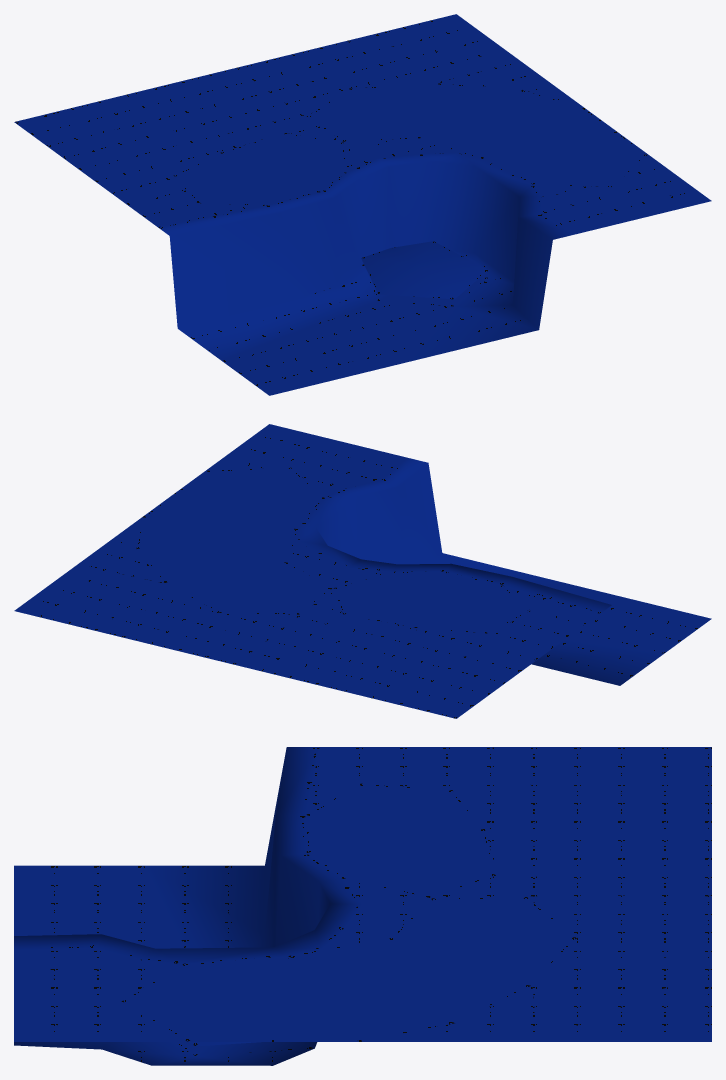
Rendered from GRD_S_C5_1.fbx.
3 renders of one model, top to bottom at view 1: azimuth 30°, elevation 25°; view 2: azimuth 150°, elevation 25°; view 3: azimuth 270°, elevation 25°, orthographic. The views are drawn at different scales.
Parts seen in each view (by area): view 1: material_00022000, material_00032000, material_C0042000, material_C0012000, material_C0052000; view 2: material_00022000, material_C0042000, material_00032000; view 3: material_00022000, material_C0042000, material_00032000, material_C0052000.
Boxes of the visible parts, x1,y1,x2,y2 form: material_00022000: (14,14,711,395); material_00032000: (158,153,573,329); material_C0042000: (172,83,647,205); material_C0012000: (361,241,488,299); material_C0052000: (361,264,488,306); material_00022000: (14,424,711,718); material_C0042000: (136,467,530,633); material_00032000: (297,458,611,613); material_00022000: (14,747,711,1065); material_C0042000: (120,783,577,1041); material_00032000: (14,747,361,963); material_C0052000: (173,1042,317,1056).
Size of the model in its own units: 12800 by 2400 by 12800.
